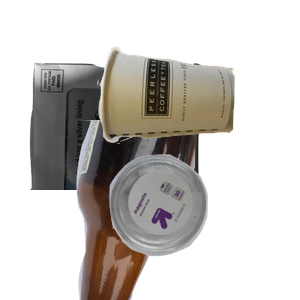glass: (60, 120, 300, 300)
paper: (27, 60, 223, 240)
plastic: (107, 152, 300, 300)
trash: (95, 44, 300, 180)
